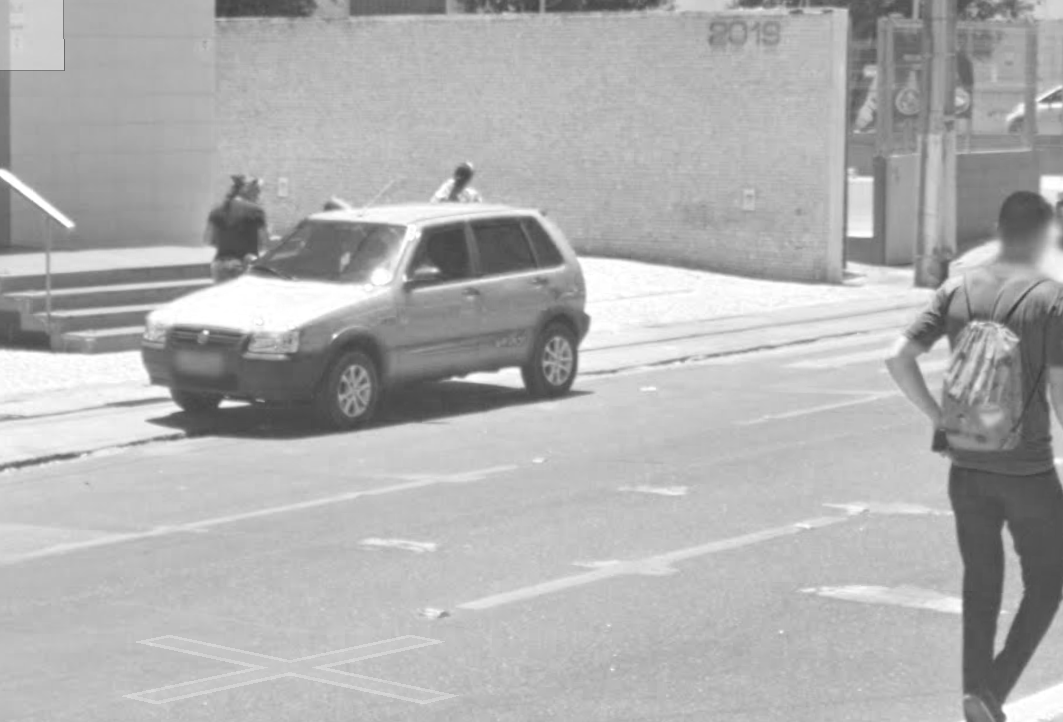car: (138, 183, 611, 429)
